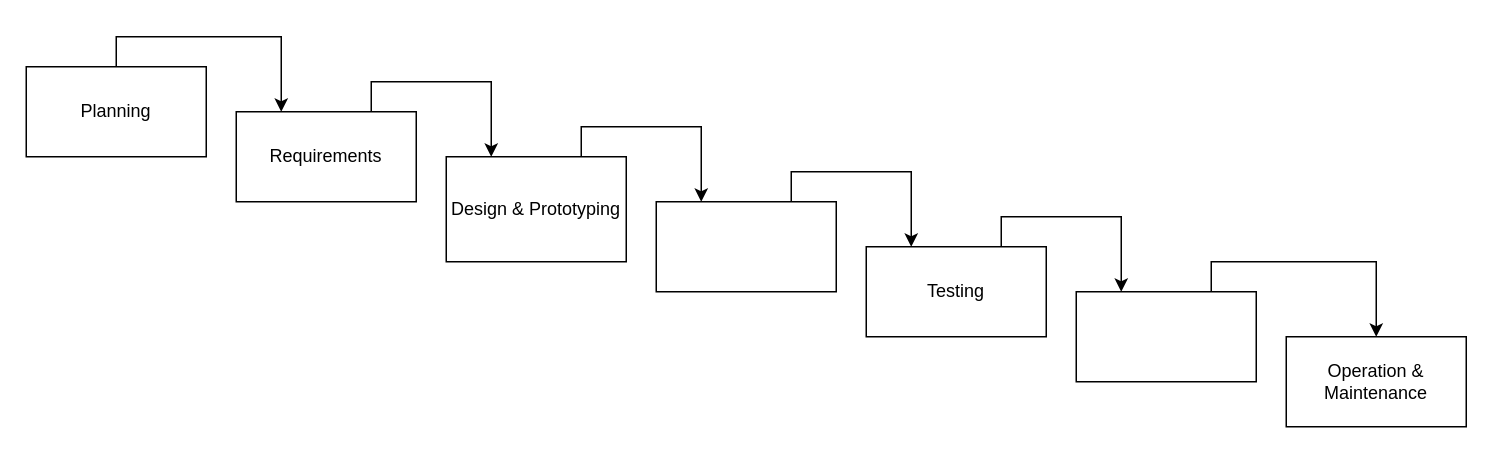
Some shapes in this 1493 by 453 pixel diagram are drawn without their labels. Here are the shapes that lost their labels. From the top down, the box of each, then its label:
(655, 200, 836, 292): Software Development
(1075, 290, 1256, 382): Deployment
